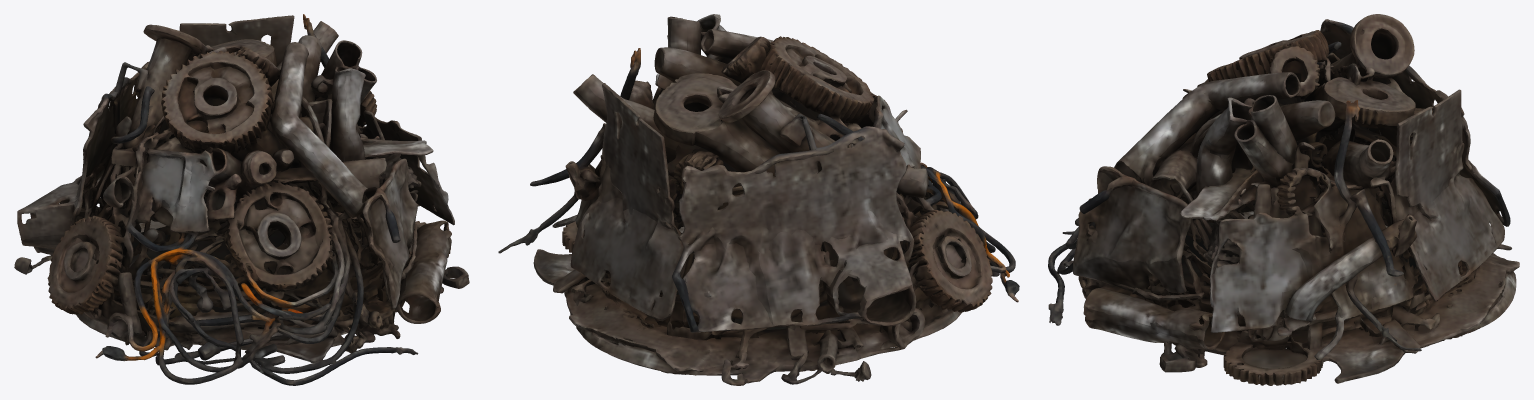
File: scrap.glb
3 renders of one model, left to right at view 1: azimuth 30°, elevation 25°; view 2: azimuth 150°, elevation 25°; view 3: azimuth 270°, elevation 25°, orthographic. The views are drawn at different scales.
Parts seen in each view (by area): view 1: world; view 2: world; view 3: world.
Part boxes in pixels (box(x1,y1,x2,y2)): world: box(14, 14, 469, 385); world: box(498, 14, 1019, 385); world: box(1048, 14, 1519, 385).
Bounding box in the file's own units: 0.6 × 0.362 × 0.5997.
Materials: 1 (1 with a texture image).
